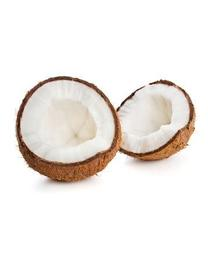coconut: (14, 76, 122, 184), (110, 78, 196, 164)
